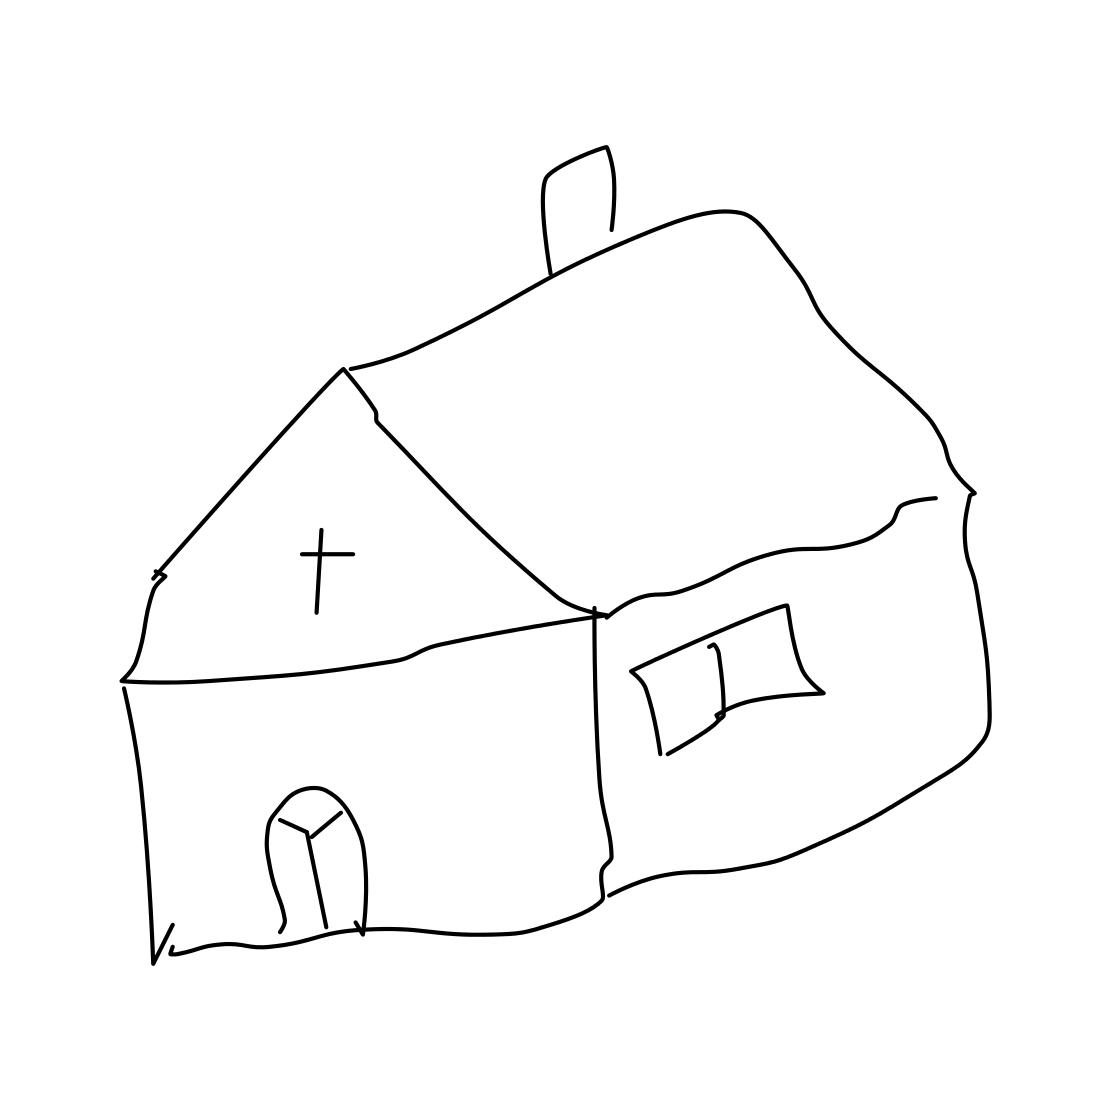House: (96, 124, 1021, 968)
